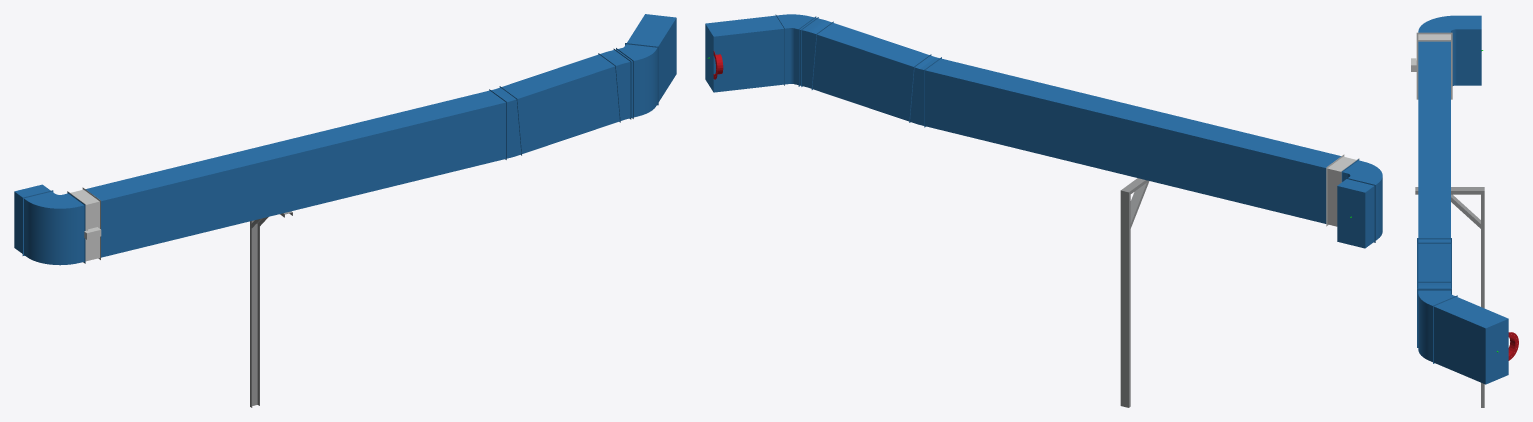
Rendered from Phase23 (2).fbx.
3 renders of one model, left to right at view 1: azimuth 30°, elevation 25°; view 2: azimuth 150°, elevation 25°; view 3: azimuth 270°, elevation 25°, orthographic.
Visible parts, largest first — view 1: Воздуховод прямоугольного сечения:CPS_Оцинковка_Тройники_ГОС (×7), CPS_Отвод_Прямоугольный:Стандарт:532133, Новый материал (по умолчанию) (×2), CPS_Отвод_Прямоугольный:Стандарт:532100, CPS_КаркасНесущий_Швеллер_ПолкаПараллельная_ГОСТ 8240-97:Бал, клапан взрывозащищенный квадрат:Сигмавент-120-НЗ(КОМ):540835; view 2: Воздуховод прямоугольного сечения:CPS_Оцинковка_Тройники_ГОС (×7), CPS_КаркасНесущий_Швеллер_ПолкаПараллельная_ГОСТ 8240-97:Бал, Новый материал (по умолчанию) (×2), CPS_Отвод_Прямоугольный:Стандарт:532100, CPS_Отвод_Прямоугольный:Стандарт:532133, клапан взрывозащищенный квадрат:Сигмавент-120-НЗ(КОМ):540835; view 3: Воздуховод прямоугольного сечения:CPS_Оцинковка_Тройники_ГОС (×7), CPS_Отвод_Прямоугольный:Стандарт:532100, CPS_Отвод_Прямоугольный:Стандарт:532133, CPS_КаркасНесущий_Швеллер_ПолкаПараллельная_ГОСТ 8240-97:Бал (×3), клапан взрывозащищенный квадрат:Сигмавент-120-НЗ(КОМ):540835, Новый материал (по умолчанию) (×2), ВЕЗА_ФОТ-ОСА:ФОТ-ОСА:650079.
Boxes of the visible parts, left/top/right/bottom form: Воздуховод прямоугольного сечения:CPS_Оцинковка_Тройники_ГОС (×7): left=14, top=14, right=676, bottom=257; CPS_Отвод_Прямоугольный:Стандарт:532133: left=22, top=190, right=85, bottom=265; Новый материал (по умолчанию) (×2): left=489, top=48, right=631, bottom=159; CPS_Отвод_Прямоугольный:Стандарт:532100: left=616, top=43, right=658, bottom=118; CPS_КаркасНесущий_Швеллер_ПолкаПараллельная_ГОСТ 8240-97:Бал: left=250, top=220, right=259, bottom=407; клапан взрывозащищенный квадрат:Сигмавент-120-НЗ(КОМ):540835: left=67, top=187, right=101, bottom=263; Воздуховод прямоугольного сечения:CPS_Оцинковка_Тройники_ГОС (×7): left=705, top=15, right=1374, bottom=248; CPS_КаркасНесущий_Швеллер_ПолкаПараллельная_ГОСТ 8240-97:Бал: left=1120, top=191, right=1130, bottom=407; Новый материал (по умолчанию) (×2): left=801, top=17, right=941, bottom=127; CPS_Отвод_Прямоугольный:Стандарт:532100: left=775, top=14, right=816, bottom=86; CPS_Отвод_Прямоугольный:Стандарт:532133: left=1341, top=159, right=1382, bottom=242; клапан взрывозащищенный квадрат:Сигмавент-120-НЗ(КОМ):540835: left=1326, top=154, right=1359, bottom=226; Воздуховод прямоугольного сечения:CPS_Оцинковка_Тройники_ГОС (×7): left=1418, top=15, right=1508, bottom=384; CPS_Отвод_Прямоугольный:Стандарт:532100: left=1417, top=289, right=1457, bottom=363; CPS_Отвод_Прямоугольный:Стандарт:532133: left=1418, top=15, right=1462, bottom=85; CPS_КаркасНесущий_Швеллер_ПолкаПараллельная_ГОСТ 8240-97:Бал (×3): left=1415, top=187, right=1484, bottom=407; клапан взрывозащищенный квадрат:Сигмавент-120-НЗ(КОМ):540835: left=1411, top=32, right=1452, bottom=99; Новый материал (по умолчанию) (×2): left=1417, top=238, right=1451, bottom=289; ВЕЗА_ФОТ-ОСА:ФОТ-ОСА:650079: left=1508, top=332, right=1518, bottom=360.
Bounding box in the file's own units: 12954 × 1827 × 5310.
